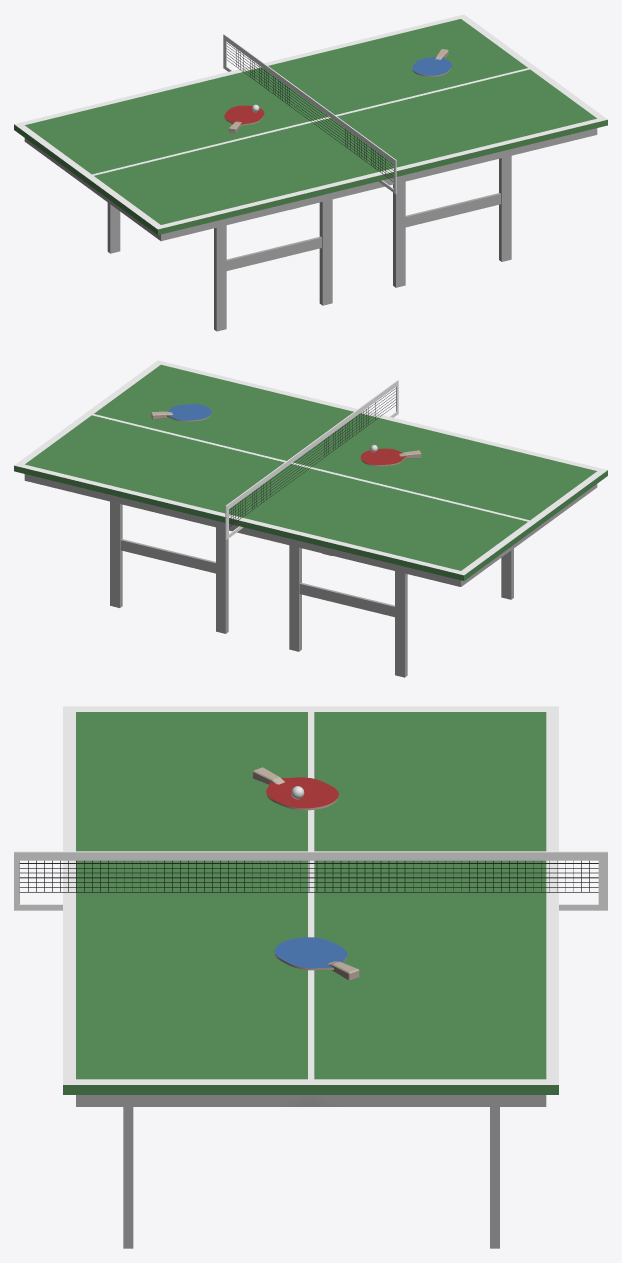
Rendered from sport_pingpong.glb.
3 views of the same model, one above another, from view 1: azimuth 30°, elevation 25°; view 2: azimuth 150°, elevation 25°; view 3: azimuth 270°, elevation 25° (orthographic). The views are drawn at different scales.
Visible parts, largest first — view 1: blue paddle; view 2: blue paddle; view 3: blue paddle.
Boxes of the visible parts, bbox=[...] form: blue paddle: bbox=[14, 14, 607, 331]; blue paddle: bbox=[14, 360, 607, 677]; blue paddle: bbox=[14, 706, 607, 1248].
Bounding box in the file's own units: 2.74 × 0.9761 × 1.82.
1 material, 1 textured.
